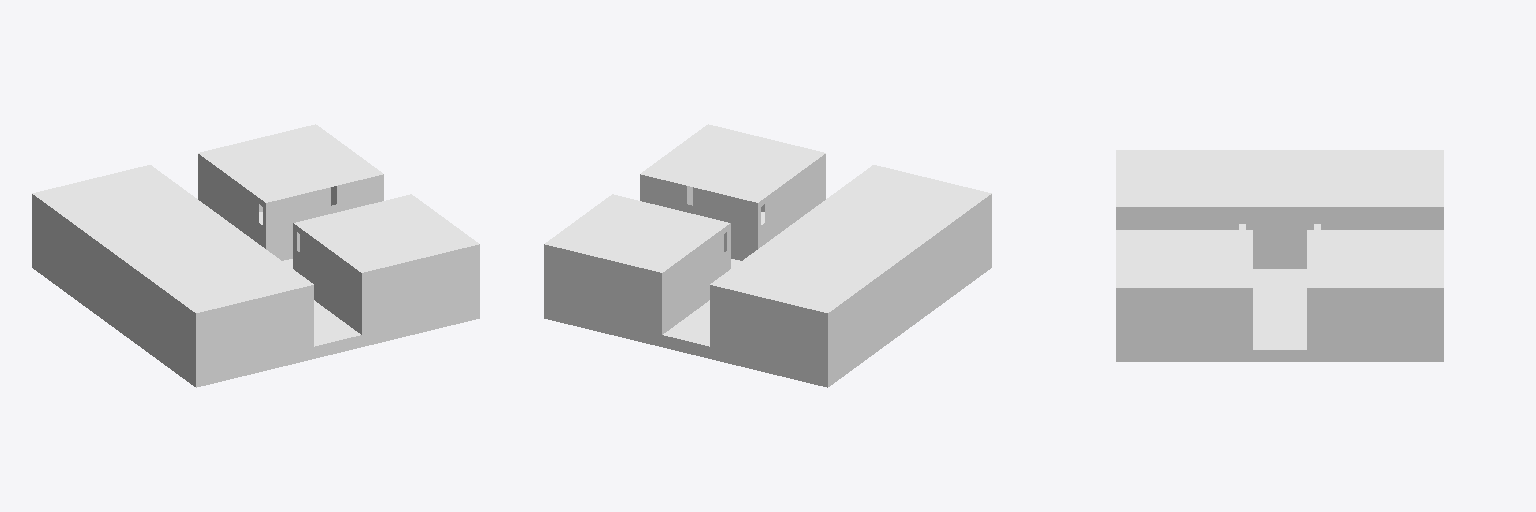
The model's file is right_pro.obj.
3 renders of one model, left to right at view 1: azimuth 30°, elevation 25°; view 2: azimuth 150°, elevation 25°; view 3: azimuth 270°, elevation 25°, orthographic.
Parts seen in each view (by area): view 1: right_pro; view 2: right_pro; view 3: right_pro.
Part boxes in pixels (bbox=[...]): right_pro: bbox=[32, 124, 479, 387]; right_pro: bbox=[544, 124, 991, 387]; right_pro: bbox=[1116, 150, 1443, 361].
Bounding box in the file's own units: 48 × 12 × 48.